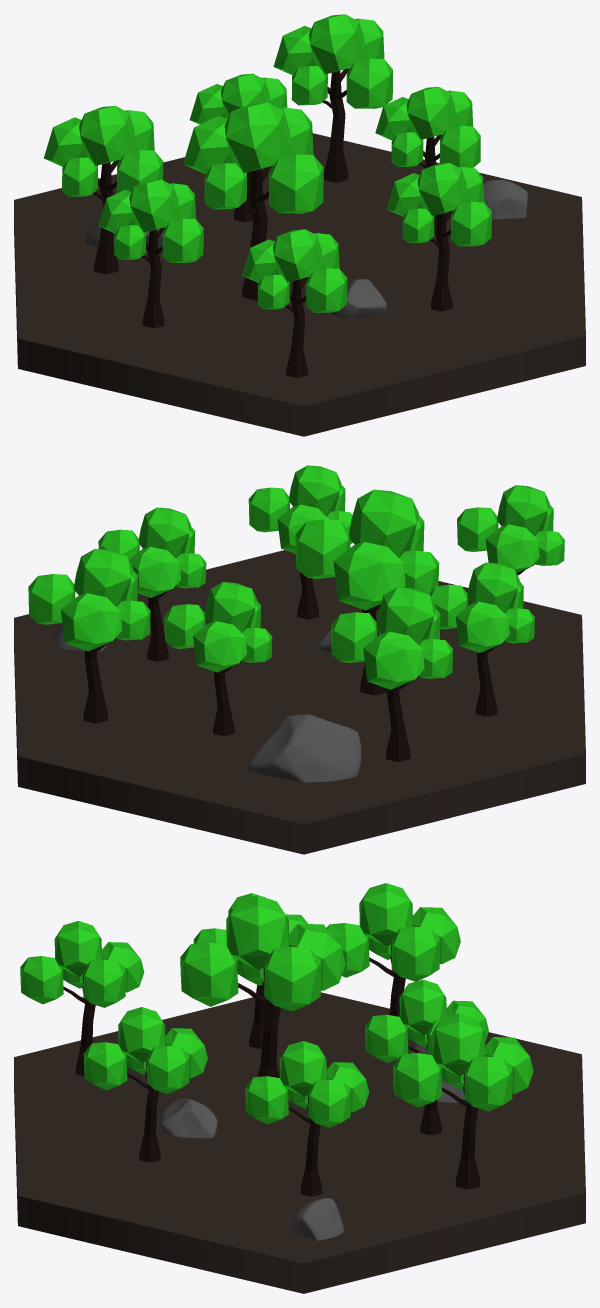
File: Tile_8.FBX
The picture shows the model from 3 angles, top to bottom: view 1: azimuth 30°, elevation 25°; view 2: azimuth 150°, elevation 25°; view 3: azimuth 270°, elevation 25°; orthographic projection.
Visible parts, largest first — view 1: Ground; view 2: Ground; view 3: Ground.
Boxes of the visible parts, <box> form: Ground: <box>14,14,585,436</box>; Ground: <box>14,465,585,854</box>; Ground: <box>14,883,585,1293</box>.
Bounding box in the file's own units: 38.57 × 15.99 × 33.63.
